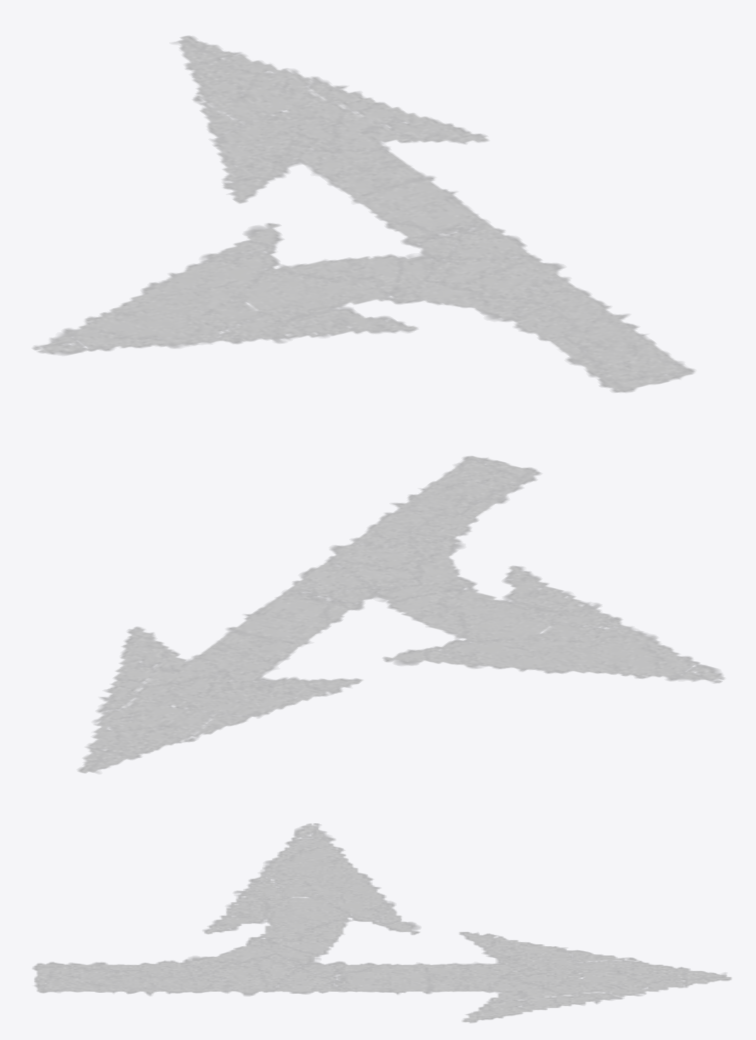
Rendered from Decal_ArrowForwardLeft.glb.
3 renders of one model, top to bottom at view 1: azimuth 30°, elevation 25°; view 2: azimuth 150°, elevation 25°; view 3: azimuth 270°, elevation 25°, orthographic. The views are drawn at different scales.
Parts seen in each view (by area): view 1: Decal_ArrowForwardLeft; view 2: Decal_ArrowForwardLeft; view 3: Decal_ArrowForwardLeft.
Part boxes in pixels (x1,y1,x2,y2): Decal_ArrowForwardLeft: (33,36,694,392); Decal_ArrowForwardLeft: (78,456,724,773); Decal_ArrowForwardLeft: (33,823,731,1022).
Bounding box in the file's own units: 1.78 × 0 × 2.67.
Materials: 1 (1 with a texture image).
